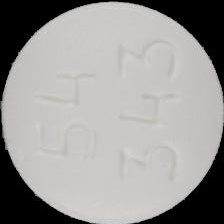55154-4950: (0, 0, 224, 224)
